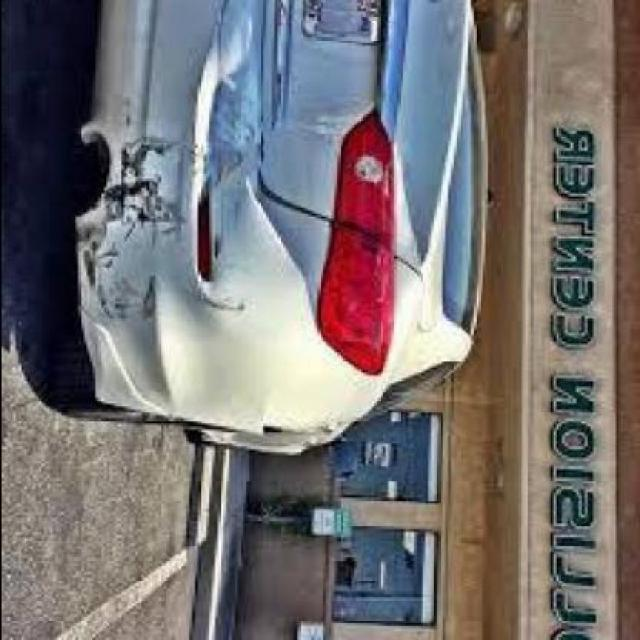damage: (72, 1, 275, 344)
